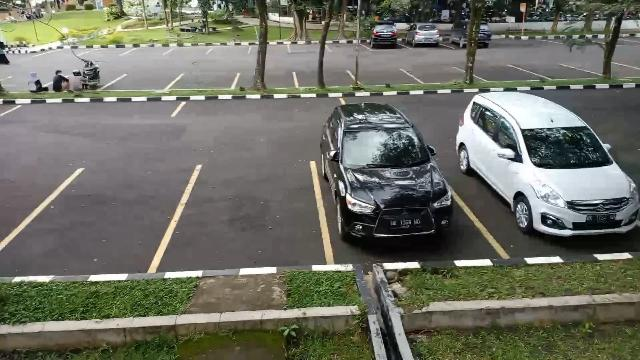empty: (173, 162, 323, 274), (24, 164, 174, 274), (3, 98, 185, 120), (350, 68, 418, 88), (109, 73, 177, 91), (176, 73, 240, 91), (236, 70, 296, 89), (474, 62, 530, 82), (412, 66, 474, 84), (295, 70, 355, 88), (531, 64, 593, 80), (594, 63, 640, 78)
occupied: (460, 143, 640, 251), (318, 147, 462, 263), (405, 26, 445, 50), (364, 29, 404, 50)
